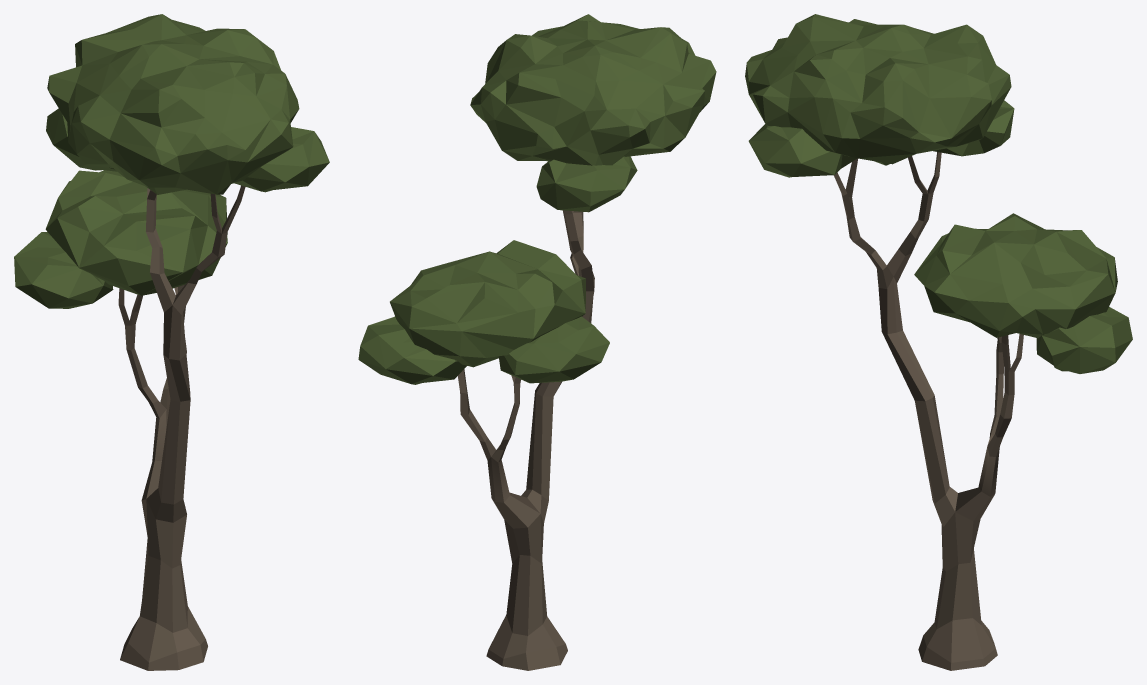
File: tree_005.fbx
The picture shows the model from 3 angles, left to right: view 1: azimuth 30°, elevation 25°; view 2: azimuth 150°, elevation 25°; view 3: azimuth 270°, elevation 25°; orthographic projection. The views are drawn at different scales.
Parts seen in each view (by area): view 1: tree_005; view 2: tree_005; view 3: tree_005.
Boxes of the visible parts, box(x1,y1,x2,y2) form: tree_005: box(14, 14, 329, 670); tree_005: box(358, 14, 716, 670); tree_005: box(745, 14, 1132, 670).
Bounding box in the file's own units: 0.432 × 1.08 × 0.6244.
Materials: 1 (1 with a texture image).
